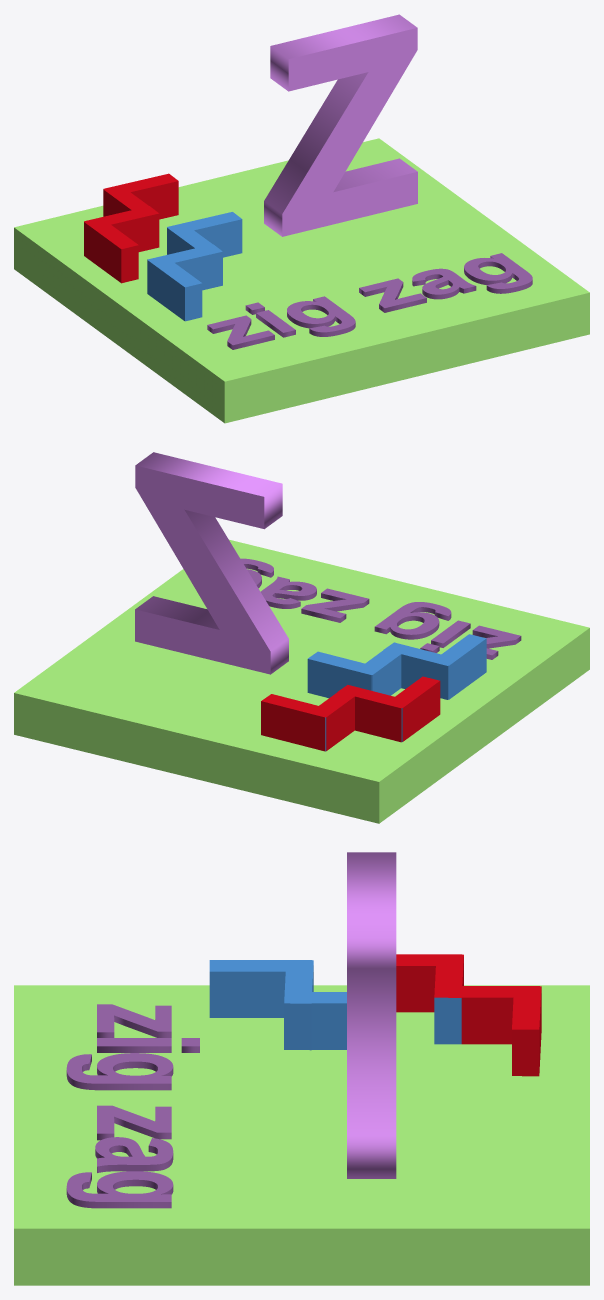
The model's file is zletter.glb.
3 views of the same model, one above another, from view 1: azimuth 30°, elevation 25°; view 2: azimuth 150°, elevation 25°; view 3: azimuth 270°, elevation 25° (orthographic). The views are drawn at different scales.
Parts seen in each view (by area): view 1: Cube.022, Text.003, Cube.002, Text.002; view 2: Cube.022, Text.003, Cube.002, Text.002; view 3: Cube.022, Cube.002, Text.003, Text.002.
Part boxes in pixels (left/top/right/bottom): Cube.022: left=14, top=138, right=589, bottom=423; Text.003: left=264, top=14, right=417, bottom=236; Cube.002: left=84, top=173, right=242, bottom=321; Text.002: left=207, top=253, right=532, bottom=349; Cube.022: left=14, top=539, right=589, bottom=823; Text.003: left=135, top=452, right=288, bottom=674; Cube.002: left=261, top=634, right=486, bottom=751; Text.002: left=240, top=558, right=521, bottom=659; Cube.022: left=14, top=985, right=589, bottom=1285; Cube.002: left=209, top=954, right=541, bottom=1076; Text.003: left=347, top=852, right=396, bottom=1178; Text.002: left=66, top=1004, right=199, bottom=1208.
Size of the model in its own units: 0.3237 by 0.1946 by 0.3237.
